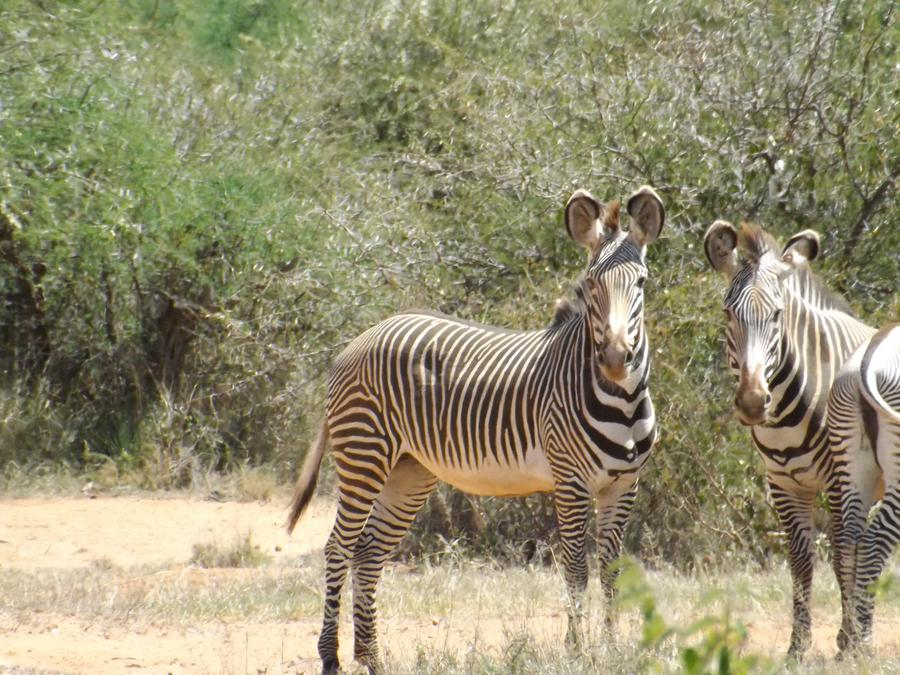zebra_grevys: (313, 296, 615, 485)
